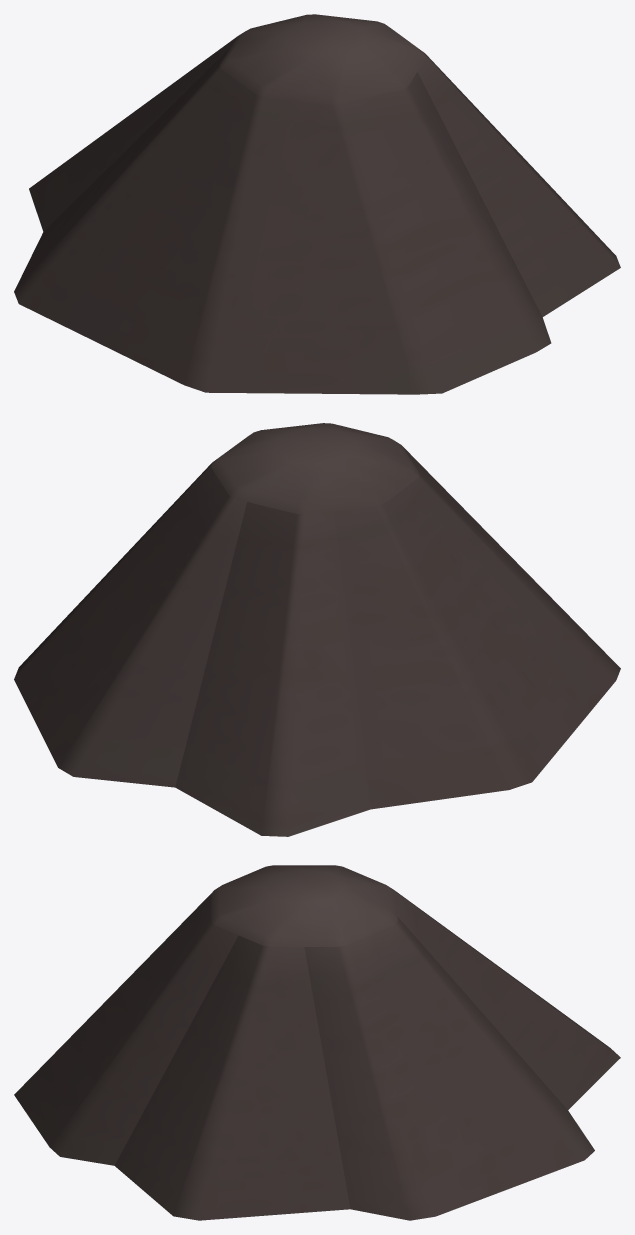
File: stone_L.fbx
3 views of the same model, one above another, from view 1: azimuth 30°, elevation 25°; view 2: azimuth 150°, elevation 25°; view 3: azimuth 270°, elevation 25° (orthographic). The views are drawn at different scales.
Visible parts, largest first — view 1: stone_L; view 2: stone_L; view 3: stone_L.
Part boxes in pixels (x1=…): stone_L: x1=14, y1=14, x2=620, y2=394; stone_L: x1=14, y1=423, x2=620, y2=836; stone_L: x1=14, y1=865, x2=620, y2=1220.
Size of the model in its own units: 153 by 69.37 by 170.
